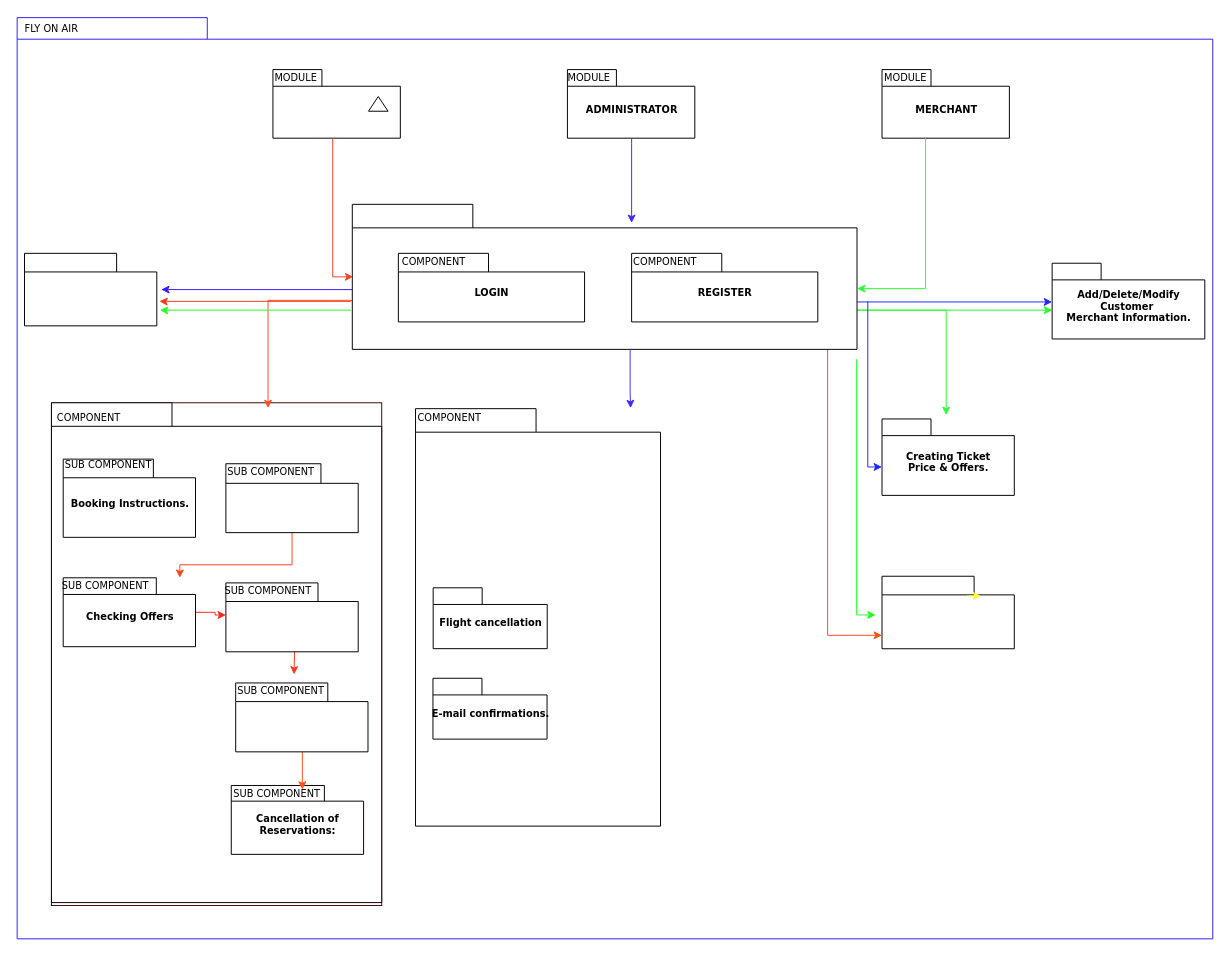
This 1230x956 diagram has some shape labels left out. Each missing label, with the box of its shape:
Booking Flights.: (225, 582, 358, 652)
Contact the Company.: (881, 575, 1014, 649)
Edit Profile: (24, 252, 157, 326)
Pay by option.: (235, 682, 368, 752)
Searching Flight.: (225, 463, 358, 533)
USER: (272, 69, 400, 138)
